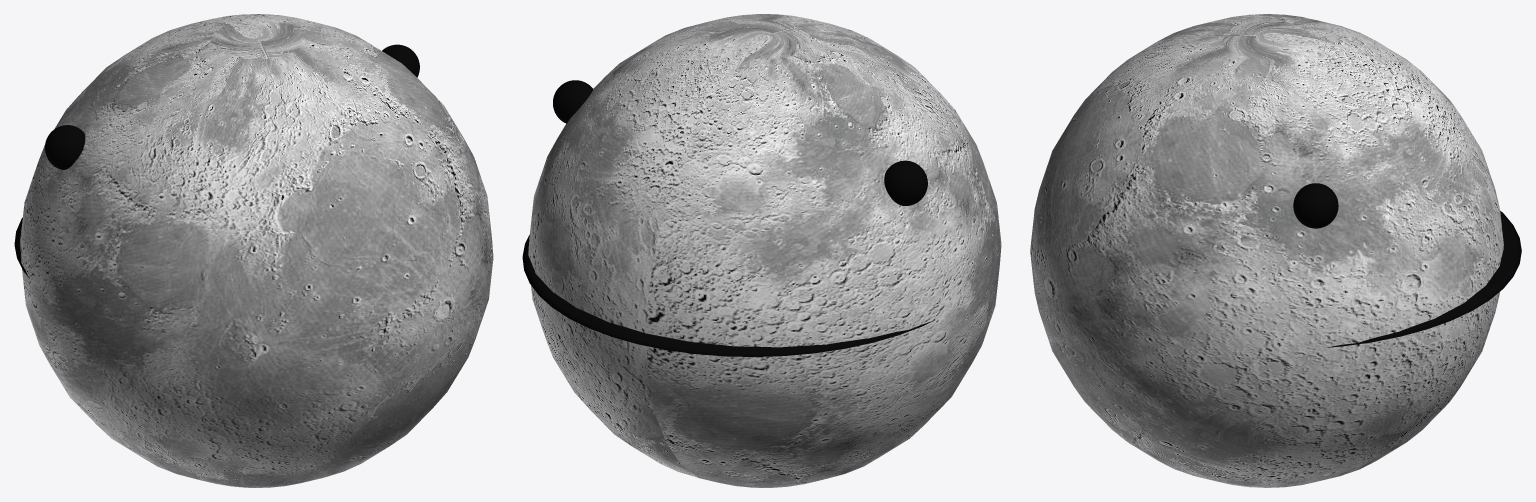
Rendered from moon.obj.
The picture shows the model from 3 angles, left to right: view 1: azimuth 30°, elevation 25°; view 2: azimuth 150°, elevation 25°; view 3: azimuth 270°, elevation 25°; orthographic projection.
Visible parts, largest first — view 1: Sphere, sxeye_Sphere.001_Material.003_sxeye_Sphere.001_Material.003_Mat, dxeye_Sphere.002_Material.003_dxeye_Sphere.002_Material.003_Mat; view 2: Sphere, mouth_Torus_None_mouth_Torus_None_Material.002_mouth_Torus_None, sxeye_Sphere.001_Material.003_sxeye_Sphere.001_Material.003_Mat, dxeye_Sphere.002_Material.003_dxeye_Sphere.002_Material.003_Mat; view 3: Sphere, mouth_Torus_None_mouth_Torus_None_Material.002_mouth_Torus_None, dxeye_Sphere.002_Material.003_dxeye_Sphere.002_Material.003_Mat.
Boxes of the visible parts, x1,y1,x2,y2 form: Sphere: (20, 14, 493, 487); sxeye_Sphere.001_Material.003_sxeye_Sphere.001_Material.003_Mat: (45, 125, 85, 169); dxeye_Sphere.002_Material.003_dxeye_Sphere.002_Material.003_Mat: (382, 44, 419, 77); Sphere: (528, 14, 1001, 487); mouth_Torus_None_mouth_Torus_None_Material.002_mouth_Torus_None: (522, 235, 932, 356); sxeye_Sphere.001_Material.003_sxeye_Sphere.001_Material.003_Mat: (884, 160, 927, 205); dxeye_Sphere.002_Material.003_dxeye_Sphere.002_Material.003_Mat: (553, 80, 593, 123); Sphere: (1030, 14, 1503, 487); mouth_Torus_None_mouth_Torus_None_Material.002_mouth_Torus_None: (1325, 211, 1521, 347); dxeye_Sphere.002_Material.003_dxeye_Sphere.002_Material.003_Mat: (1293, 183, 1338, 228).
Size of the model in its own units: 6.73 by 6.73 by 6.97.
2 materials, 1 textured.
